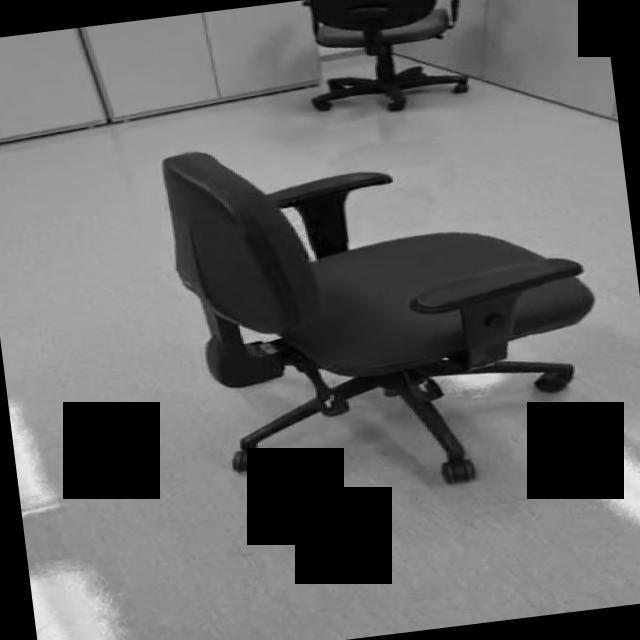chair: (160, 104, 612, 514)
